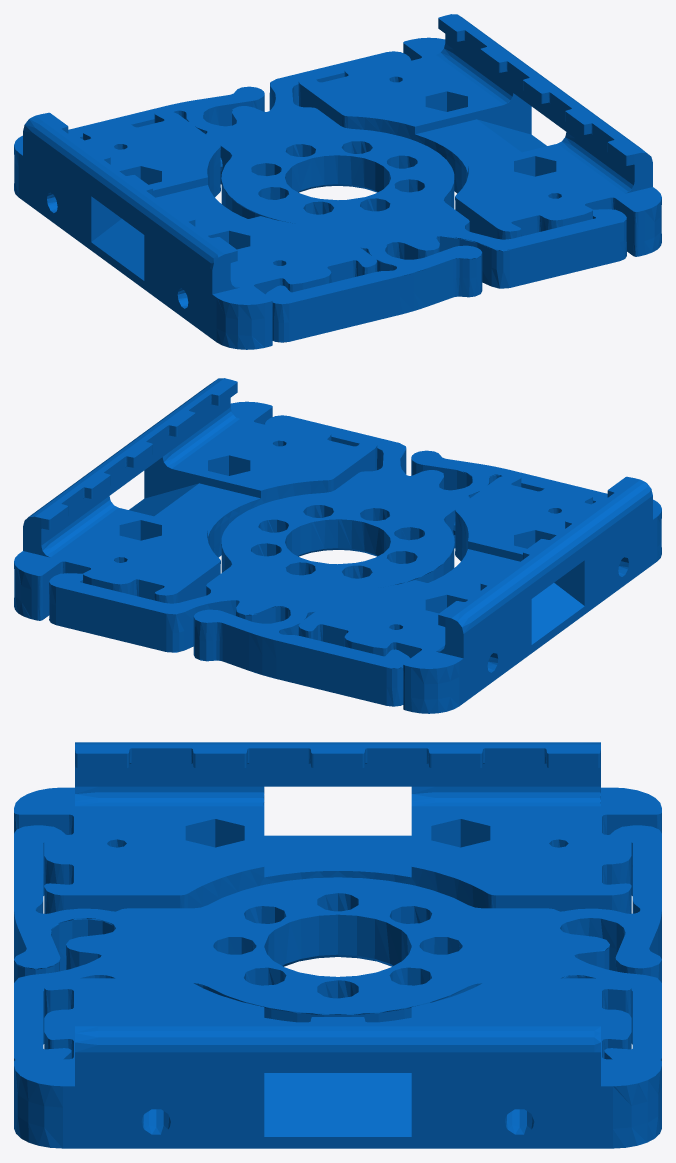
File: qb_flat_flange_m.dae
3 renders of one model, top to bottom at view 1: azimuth 30°, elevation 25°; view 2: azimuth 150°, elevation 25°; view 3: azimuth 270°, elevation 25°, orthographic. The views are drawn at different scales.
Visible parts, largest first — view 1: Body_1, Body_4, Body_5; view 2: Body_1, Body_4, Body_5; view 3: Body_5, Body_4, Body_1.
Part boxes in pixels (x1,y1,x2,y2): Body_1: (68, 51, 626, 342); Body_4: (14, 111, 377, 349); Body_5: (298, 14, 661, 256); Body_1: (49, 415, 607, 706); Body_4: (298, 475, 661, 713); Body_5: (14, 378, 377, 620); Body_5: (14, 978, 661, 1148); Body_4: (14, 742, 661, 913); Body_1: (14, 825, 661, 1060).
Size of the model in its own units: 0.072 by 0.066 by 0.0128.
